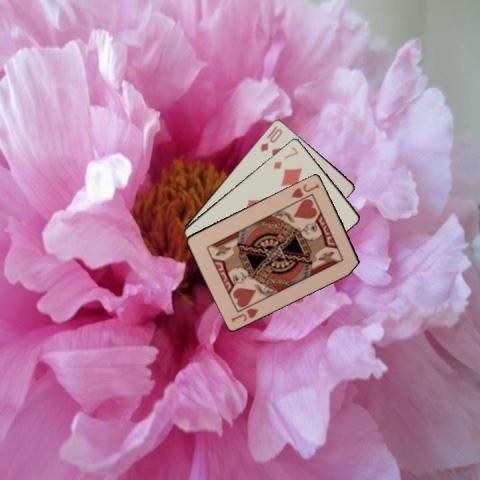10d: (257, 125, 284, 153)
7d: (270, 143, 299, 171)
Jh: (288, 180, 321, 199), (228, 305, 260, 323)
